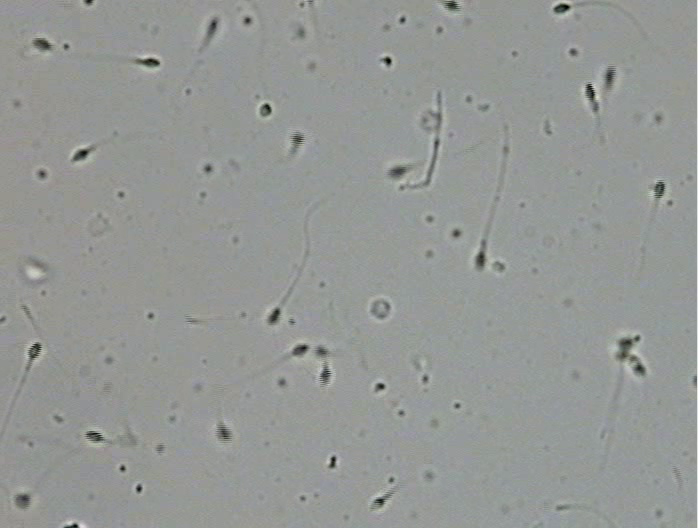Impurity: (371, 298, 391, 319)
S: (615, 336, 632, 360), (215, 424, 233, 443), (32, 38, 52, 52), (604, 65, 616, 88), (85, 430, 106, 443), (319, 366, 332, 387), (290, 131, 305, 149), (27, 342, 42, 360), (387, 165, 406, 179), (653, 179, 666, 199), (135, 58, 160, 68), (14, 494, 30, 509), (267, 307, 281, 324), (71, 149, 88, 162), (207, 19, 218, 38), (475, 250, 486, 269), (370, 497, 386, 510), (292, 344, 309, 356), (443, 1, 461, 12), (553, 3, 571, 14), (632, 362, 646, 376), (259, 103, 272, 117), (585, 83, 595, 101), (314, 346, 329, 357), (83, 1, 93, 6)
